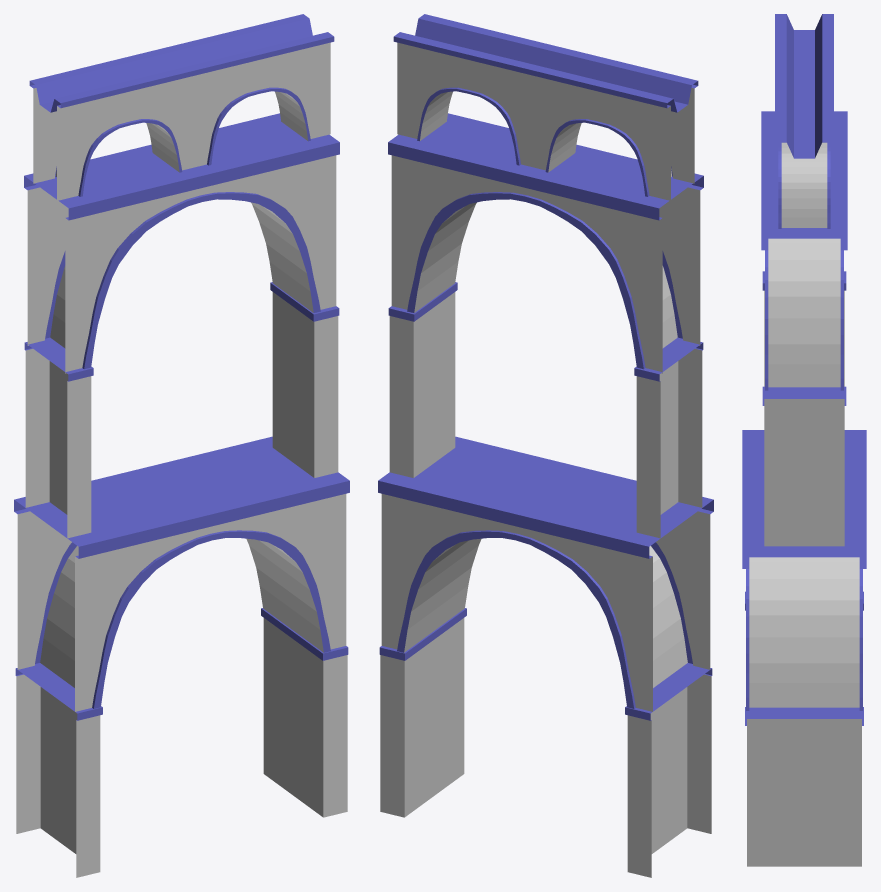
File: ModularAqueducts.fbx
3 views of the same model, side by side, from view 1: azimuth 30°, elevation 25°; view 2: azimuth 150°, elevation 25°; view 3: azimuth 270°, elevation 25° (orthographic). The views are drawn at different scales.
Parts seen in each view (by area): view 1: BaseArch0, MidArch, TopArch, BotSupport, MidSupport; view 2: BaseArch0, MidArch, TopArch, BotSupport, MidSupport; view 3: BaseArch0, BotSupport, MidArch, MidSupport, TopArch.
Part boxes in pixels (bbox=[...]): BaseArch0: bbox=[14, 436, 349, 711]; MidArch: bbox=[24, 113, 339, 373]; TopArch: bbox=[29, 14, 334, 200]; BotSupport: bbox=[15, 608, 348, 877]; MidSupport: bbox=[24, 282, 339, 538]; BaseArch0: bbox=[378, 436, 713, 711]; MidArch: bbox=[388, 113, 703, 373]; TopArch: bbox=[393, 14, 698, 200]; BotSupport: bbox=[379, 608, 712, 877]; MidSupport: bbox=[388, 282, 703, 538]; BaseArch0: bbox=[742, 430, 866, 710]; BotSupport: bbox=[745, 591, 863, 866]; MidArch: bbox=[761, 111, 847, 390]; MidSupport: bbox=[762, 271, 846, 546]; TopArch: bbox=[775, 14, 833, 228].
Bounding box in the file's own units: 202 × 539 × 82.46.
